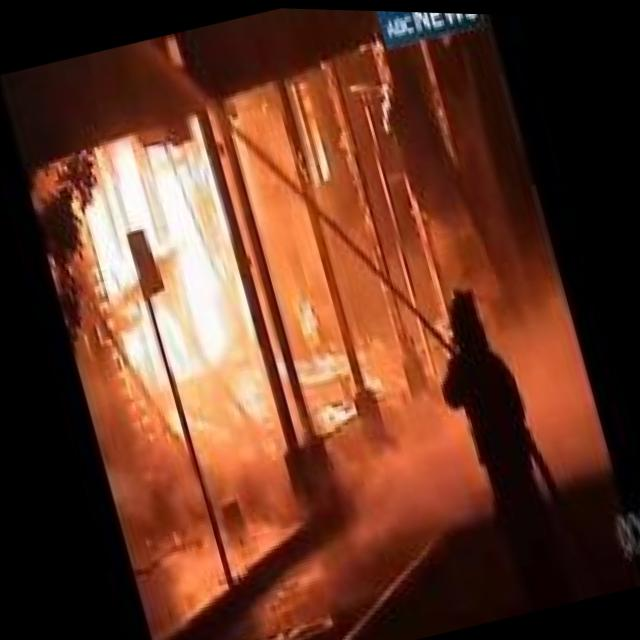fire: (62, 93, 373, 509)
